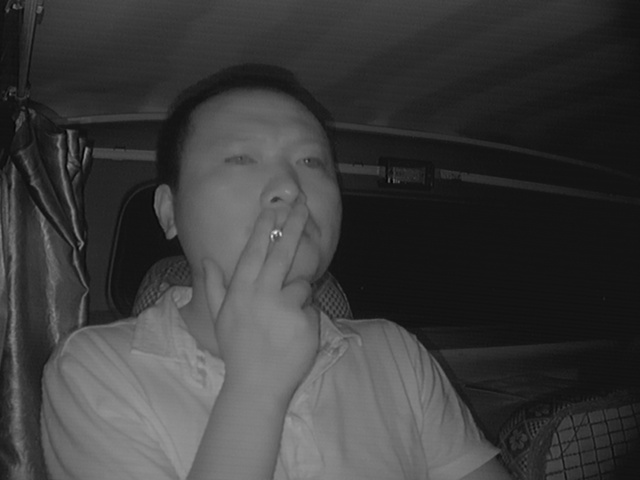hand: (213, 208, 321, 347)
